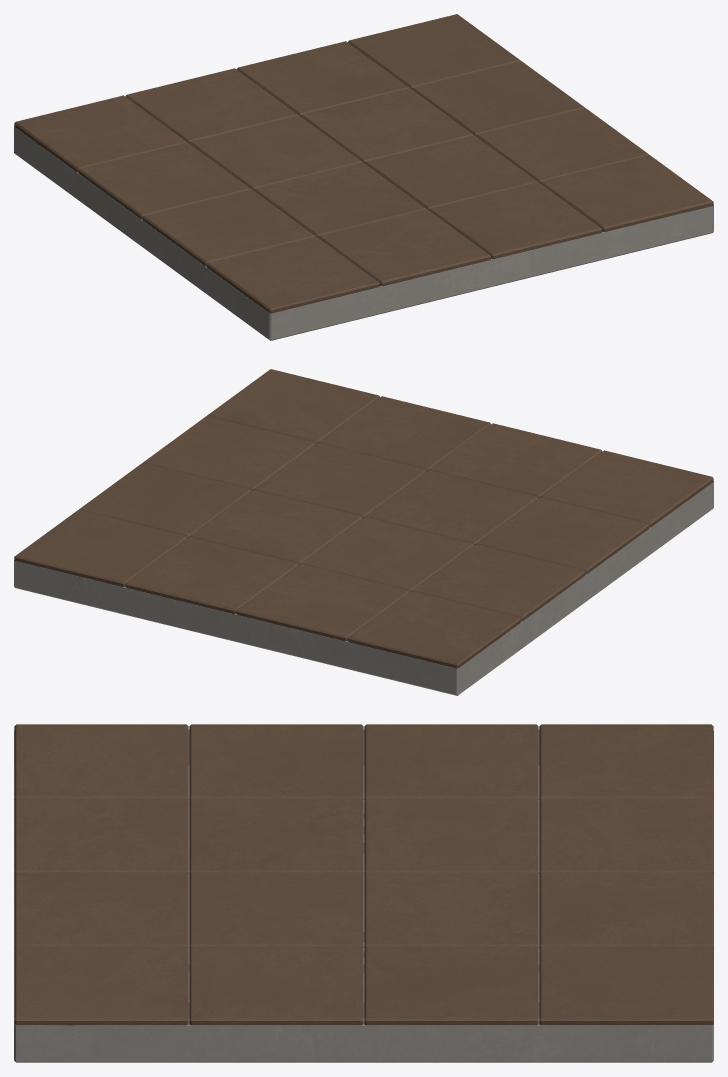
File: SK1 CEILING SMALL.fbx
3 views of the same model, one above another, from view 1: azimuth 30°, elevation 25°; view 2: azimuth 150°, elevation 25°; view 3: azimuth 270°, elevation 25° (orthographic). The views are drawn at different scales.
Parts seen in each view (by area): view 1: SK1 CEILING SMALL.004; view 2: SK1 CEILING SMALL.004; view 3: SK1 CEILING SMALL.004.
Part boxes in pixels (x1,y1,x2,y2): SK1 CEILING SMALL.004: (14, 14, 713, 340); SK1 CEILING SMALL.004: (14, 369, 713, 695); SK1 CEILING SMALL.004: (14, 724, 713, 1062).
Size of the model in its own units: 200 by 13.93 by 200.
